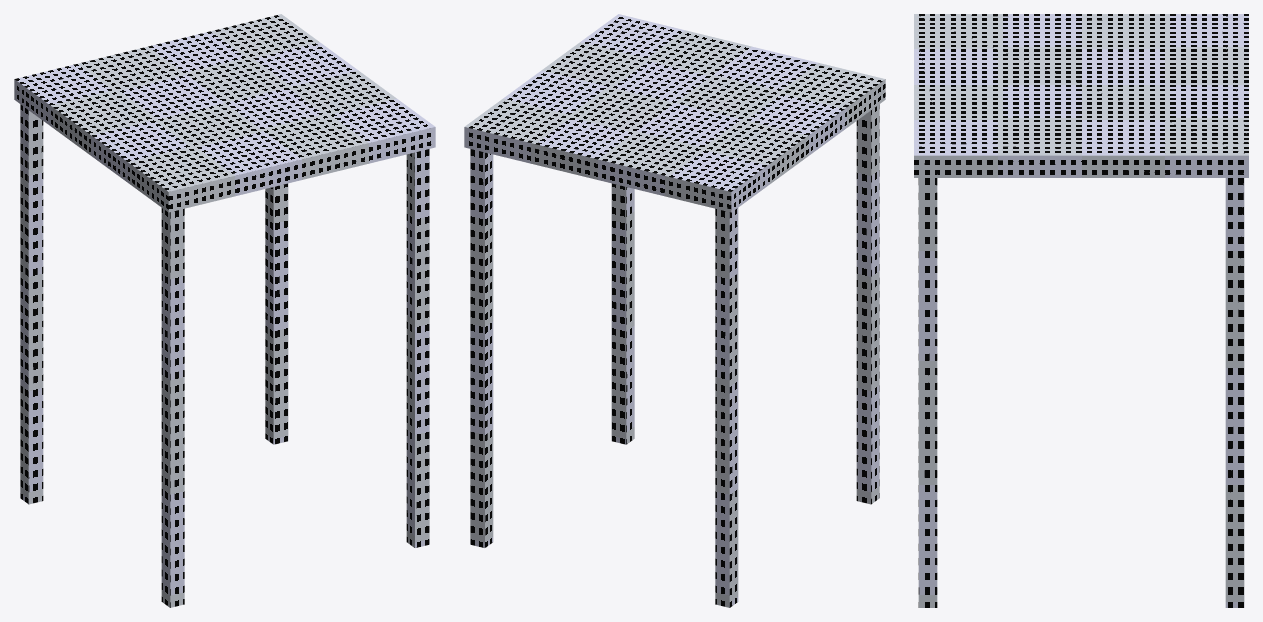
The model's file is platform_tall.glb.
3 renders of one model, left to right at view 1: azimuth 30°, elevation 25°; view 2: azimuth 150°, elevation 25°; view 3: azimuth 270°, elevation 25°, orthographic. The views are drawn at different scales.
Visible parts, largest first — view 1: PlatformTall; view 2: PlatformTall; view 3: PlatformTall.
Part boxes in pixels (x1,y1,x2,y2): PlatformTall: (14,14,435,607); PlatformTall: (464,14,885,607); PlatformTall: (914,14,1248,607).
Bounding box in the file's own units: 4 × 5.99 × 4.
Materials: 1 (1 with a texture image).
